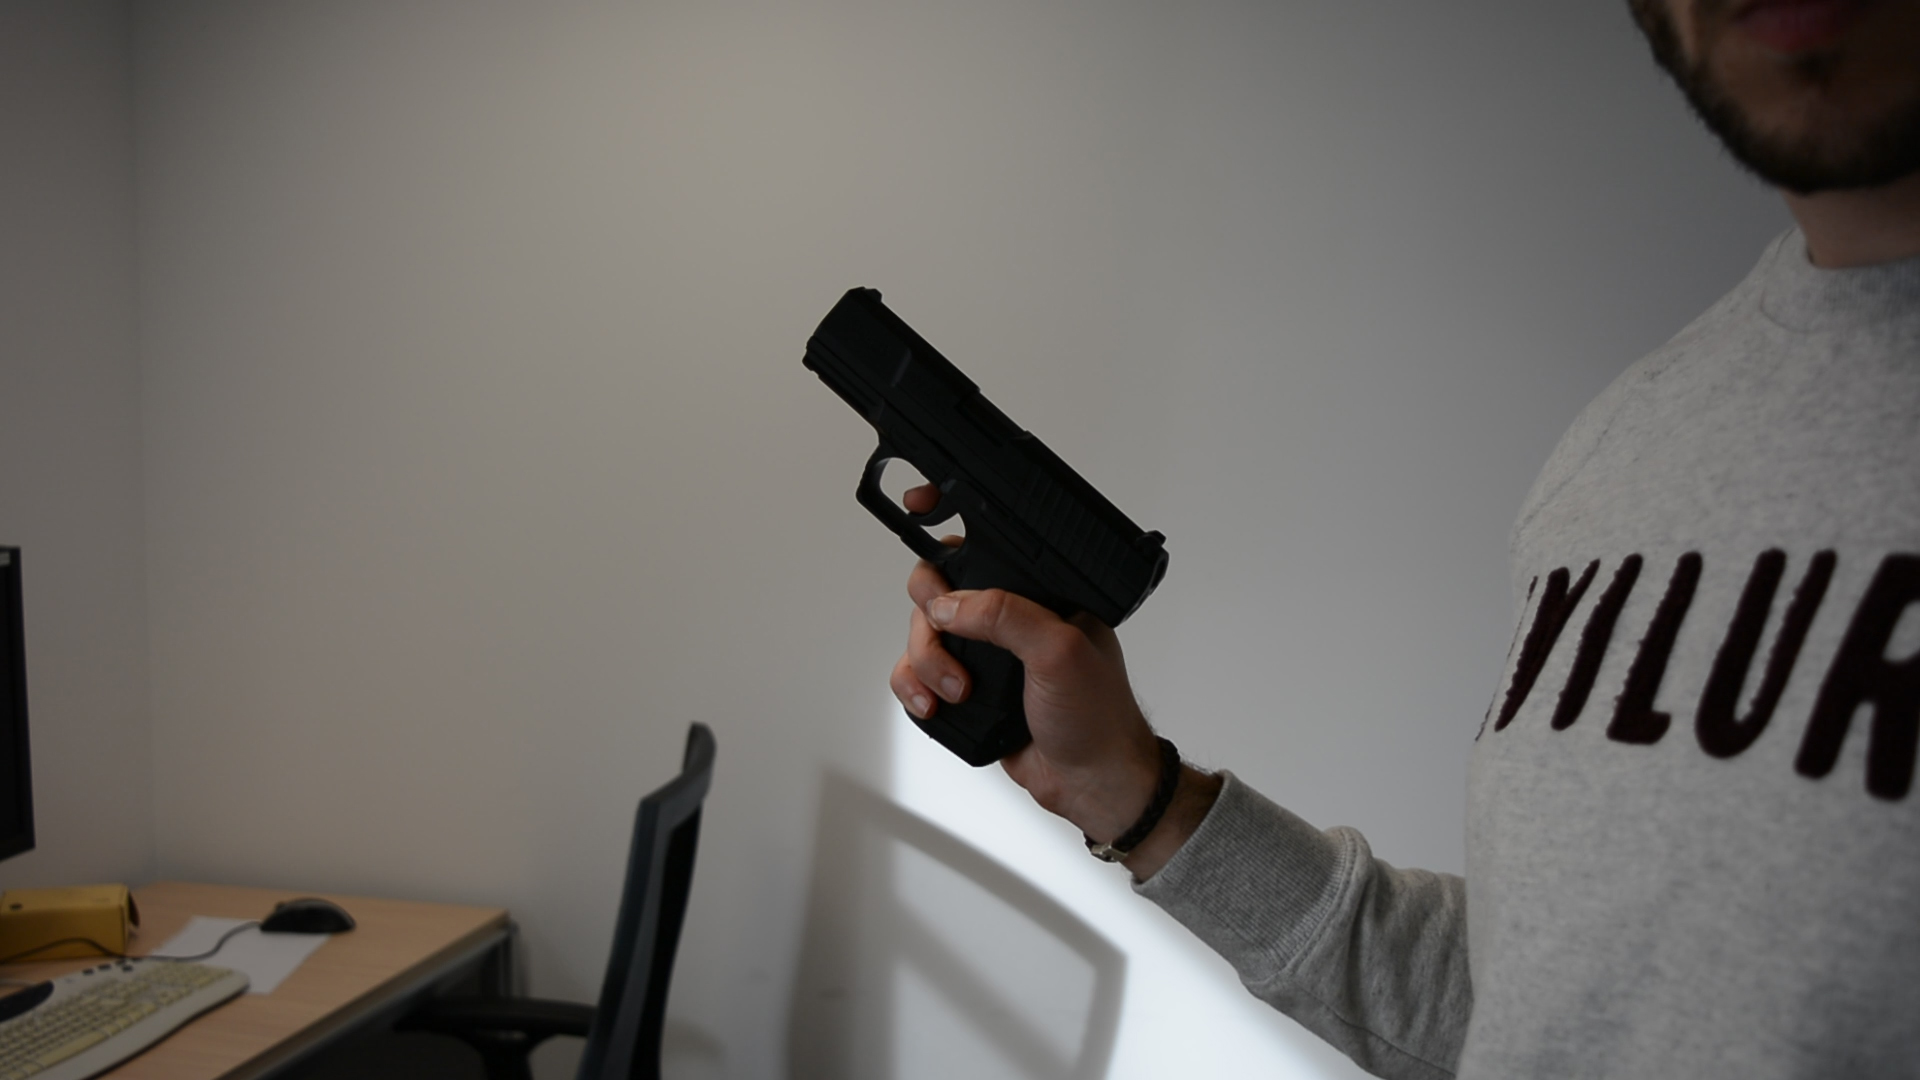pistol: (800, 284, 1172, 771)
